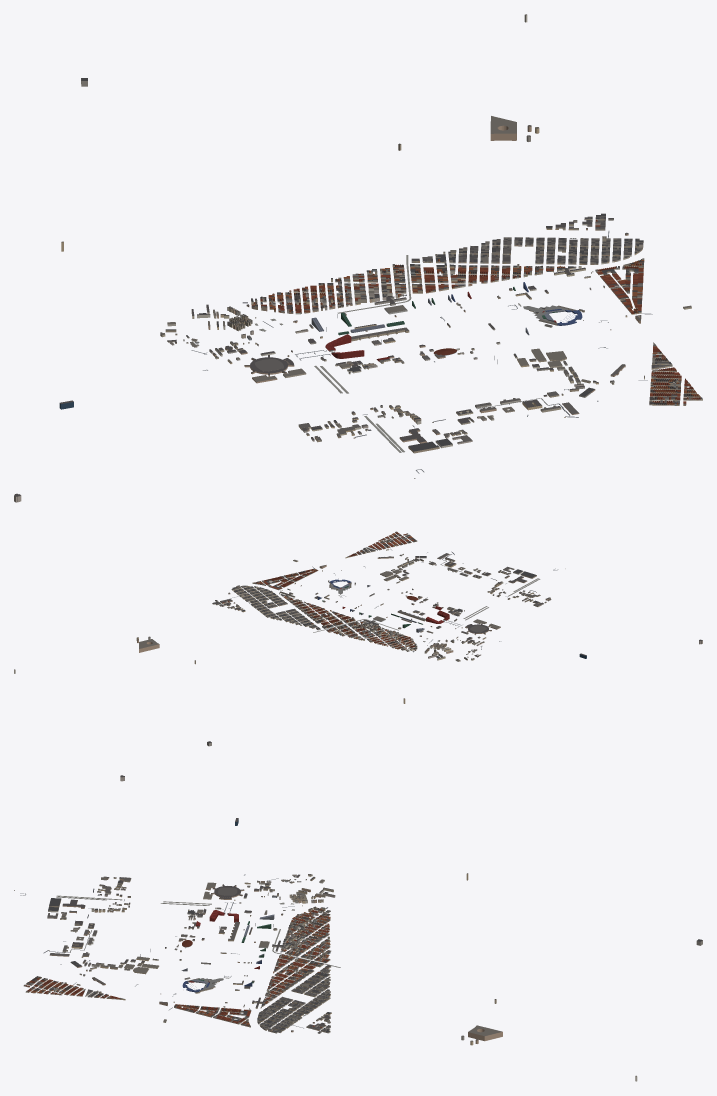
Rendered from scenery.glb.
3 renders of one model, top to bottom at view 1: azimuth 30°, elevation 25°; view 2: azimuth 150°, elevation 25°; view 3: azimuth 270°, elevation 25°, orthographic. The views are drawn at different scales.
Parts seen in each view (by area): view 1: chunk_17_13, chunk_14_13, chunk_16_13, chunk_15_12, chunk_16_17, chunk_16_12, chunk_15_13, chunk_14_12, chunk_13_14, chunk_17_14, chunk_12_14, chunk_12_16 (+4 smaller); view 2: chunk_17_13, chunk_14_13, chunk_16_13, chunk_14_12, chunk_15_12, chunk_16_12, chunk_15_13, chunk_16_17, chunk_17_14, chunk_13_14; view 3: chunk_17_13, chunk_16_13, chunk_14_13, chunk_14_12, chunk_15_12, chunk_16_12, chunk_16_17, chunk_15_13, chunk_17_14, chunk_13_12, chunk_13_14, chunk_12_16.
Boxes of the visible parts, <box> form: chunk_17_13: <box>535,238,628,278</box>; chunk_14_13: <box>306,286,411,332</box>; chunk_16_13: <box>450,256,542,298</box>; chunk_15_12: <box>358,255,447,295</box>; chunk_16_17: <box>649,375,702,405</box>; chunk_16_12: <box>427,239,511,270</box>; chunk_15_13: <box>381,271,471,308</box>; chunk_14_12: <box>289,273,373,304</box>; chunk_13_14: <box>287,334,383,393</box>; chunk_17_14: <box>589,266,643,307</box>; chunk_12_14: <box>244,355,306,383</box>; chunk_12_16: <box>298,416,404,452</box>; chunk_17_13: <box>243,584,295,607</box>; chunk_14_13: <box>359,613,416,638</box>; chunk_16_13: <box>288,596,337,619</box>; chunk_14_12: <box>349,628,398,646</box>; chunk_15_12: <box>311,619,359,636</box>; chunk_16_12: <box>270,610,319,627</box>; chunk_15_13: <box>321,606,371,628</box>; chunk_16_17: <box>376,531,417,547</box>; chunk_17_14: <box>265,570,312,587</box>; chunk_13_14: <box>426,607,488,628</box>; chunk_17_13: <box>242,995,302,1021</box>; chunk_16_13: <box>244,970,301,996</box>; chunk_14_13: <box>241,922,302,953</box>; chunk_14_12: <box>299,921,330,948</box>; chunk_15_12: <box>280,946,340,972</box>; chunk_16_12: <box>299,971,330,996</box>; chunk_16_17: <box>23,976,72,995</box>; chunk_15_13: <box>243,945,302,972</box>; chunk_17_14: <box>185,1002,245,1021</box>; chunk_13_12: <box>301,897,330,924</box>; chunk_13_14: <box>163,899,241,923</box>; chunk_12_16: <box>56,876,131,900</box>.
Size of the model in its own units: 4975 by 54.21 by 4802.
